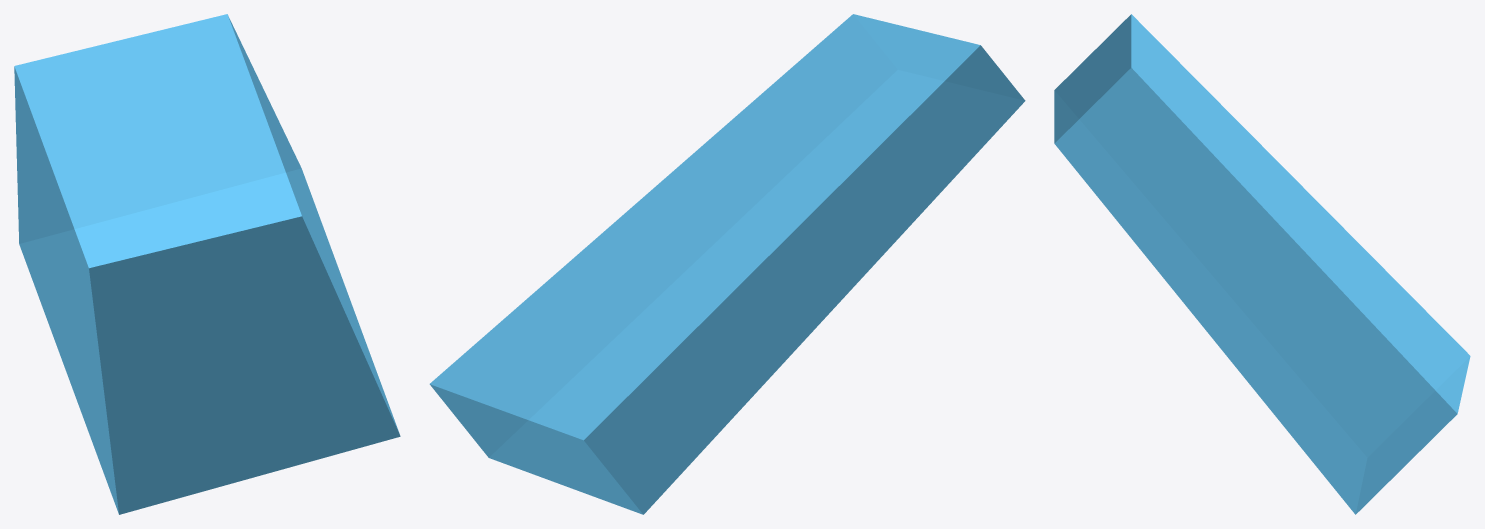
Rendered from Event_421364160_HBrechit_29.fbx.
3 views of the same model, side by side, from view 1: azimuth 30°, elevation 25°; view 2: azimuth 150°, elevation 25°; view 3: azimuth 270°, elevation 25° (orthographic). The views are drawn at different scales.
Visible parts, largest first — view 1: Model; view 2: Model; view 3: Model.
Part boxes in pixels (x1,y1,x2,y2): Model: [14, 14, 400, 514]; Model: [429, 14, 1025, 514]; Model: [1054, 14, 1470, 514].
Size of the model in its own units: 1.27 by 1.4 by 1.47.
